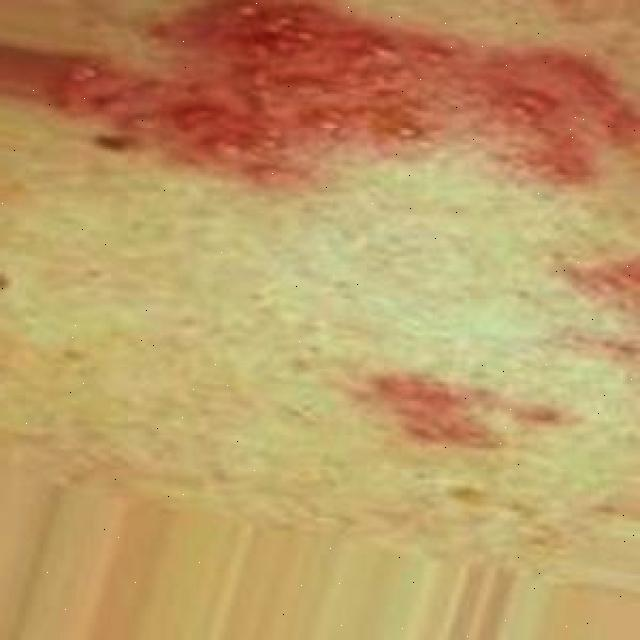Shingles: (60, 0, 636, 190), (372, 371, 569, 453), (554, 250, 640, 310)
